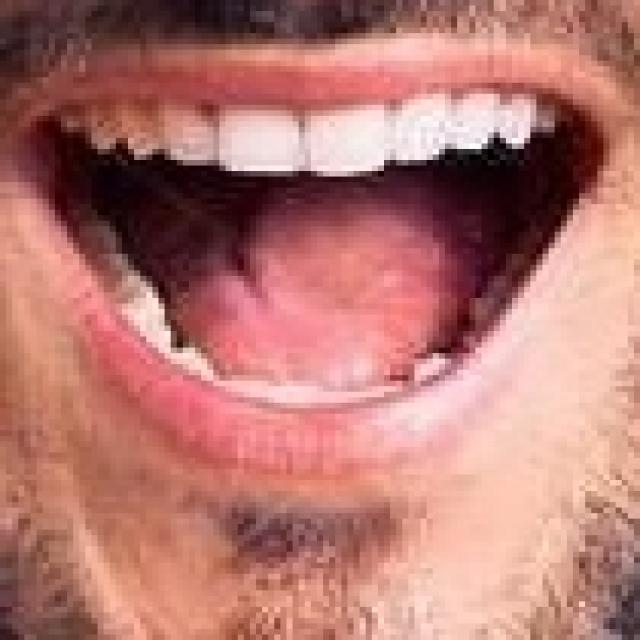open-mouth: (6, 33, 622, 474)
